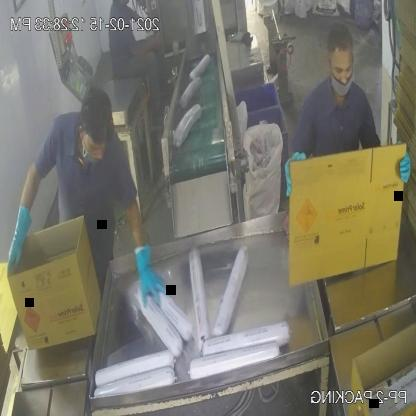glove: (127, 232, 171, 315), (4, 180, 35, 278)
no_glove: (122, 25, 170, 75)
